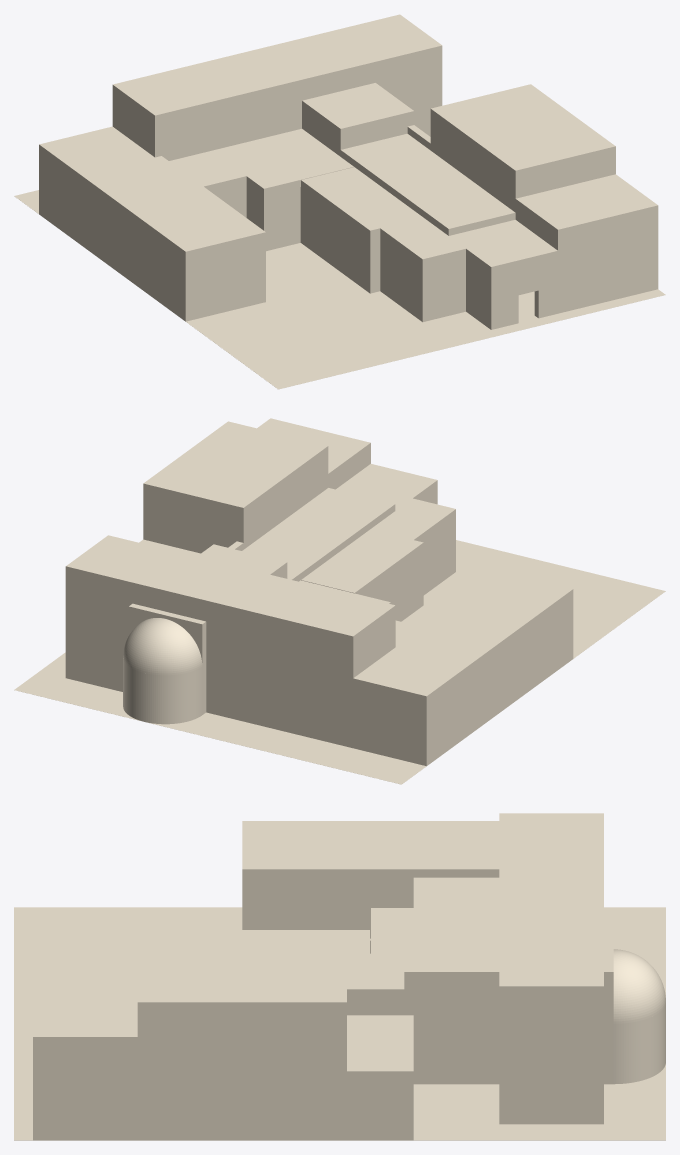
The model's file is galleria3.glb.
3 views of the same model, one above another, from view 1: azimuth 30°, elevation 25°; view 2: azimuth 150°, elevation 25°; view 3: azimuth 270°, elevation 25° (orthographic). The views are drawn at different scales.
Parts seen in each view (by area): view 1: obj_41, obj_58, obj_24, obj_27, obj_11, obj_48, obj_22, obj_19, obj_0, obj_20, obj_26, obj_12 (+10 smaller); view 2: obj_41, obj_58, obj_24, obj_13, obj_27, obj_11, obj_22, obj_48, obj_18, obj_40, obj_7, obj_19 (+5 smaller); view 3: obj_41, obj_58, obj_24, obj_10, obj_27, obj_19, obj_9, obj_56, obj_25, obj_6, obj_48, obj_4 (+10 smaller).
Part boxes in pixels (x1=…): obj_41: x1=112, y1=14, x2=442, y2=160; obj_58: x1=14, y1=190, x2=665, y2=389; obj_24: x1=430, y1=84, x2=615, y2=205; obj_27: x1=39, y1=126, x2=265, y2=258; obj_11: x1=43, y1=154, x2=192, y2=321; obj_48: x1=246, y1=154, x2=465, y2=266; obj_22: x1=336, y1=133, x2=515, y2=235; obj_19: x1=511, y1=174, x2=658, y2=250; obj_0: x1=564, y1=228, x2=651, y2=311; obj_20: x1=449, y1=219, x2=564, y2=287; obj_26: x1=169, y1=129, x2=336, y2=191; obj_12: x1=192, y1=241, x2=259, y2=319; obj_41: x1=65, y1=535, x2=395, y2=699; obj_58: x1=14, y1=540, x2=665, y2=784; obj_24: x1=143, y1=421, x2=328, y2=542; obj_13: x1=206, y1=650, x2=430, y2=766; obj_27: x1=346, y1=569, x2=573, y2=703; obj_11: x1=430, y1=596, x2=573, y2=762; obj_22: x1=242, y1=488, x2=395, y2=581; obj_48: x1=299, y1=498, x2=455, y2=603; obj_18: x1=123, y1=658, x2=202, y2=724; obj_40: x1=123, y1=618, x2=202, y2=675; obj_7: x1=65, y1=617, x2=128, y2=691; obj_19: x1=257, y1=418, x2=370, y2=489; obj_41: x1=404, y1=813, x2=613, y2=1063; obj_58: x1=14, y1=907, x2=665, y2=1140; obj_24: x1=137, y1=942, x2=346, y2=1045; obj_10: x1=147, y1=1045, x2=346, y2=1140; obj_27: x1=242, y1=821, x2=499, y2=877; obj_19: x1=33, y1=976, x2=147, y2=1062; obj_9: x1=33, y1=1063, x2=147, y2=1140; obj_56: x1=242, y1=877, x2=413, y2=938; obj_25: x1=337, y1=1015, x2=413, y2=1105; obj_6: x1=509, y1=1046, x2=594, y2=1124; obj_48: x1=95, y1=908, x2=413, y2=962; obj_4: x1=413, y1=1023, x2=499, y2=1084.
Bounding box in the file's own units: 58 × 16.01 × 68.5.
